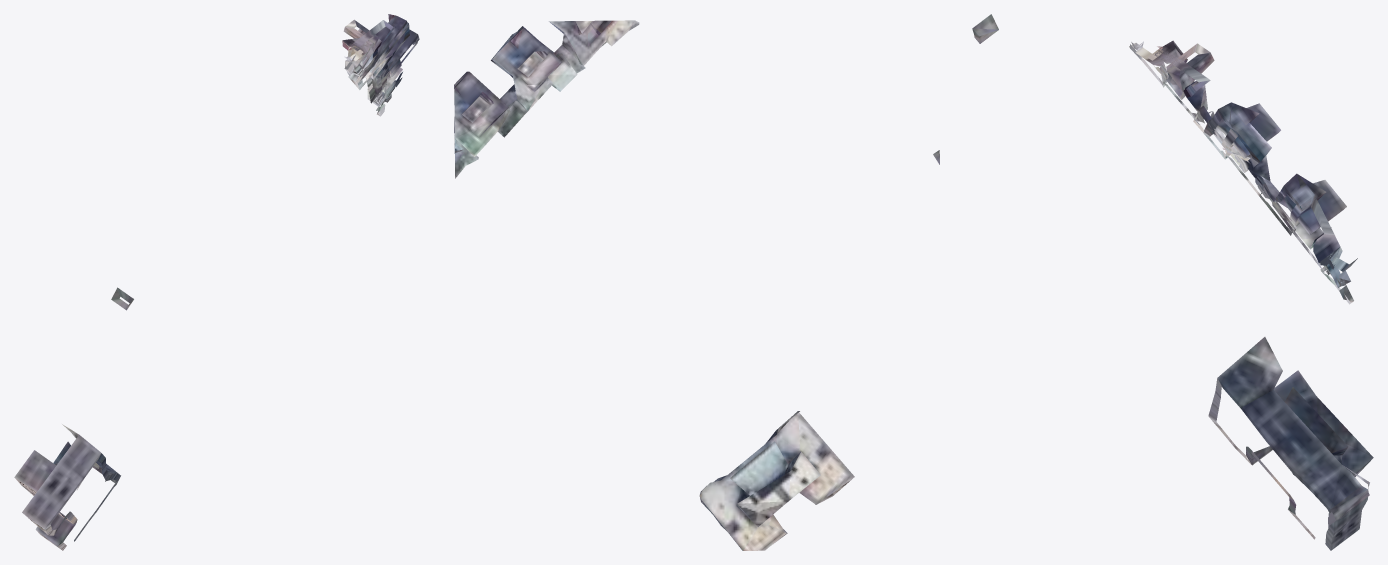
3 views of the same model, side by side, from view 1: azimuth 30°, elevation 25°; view 2: azimuth 150°, elevation 25°; view 3: azimuth 270°, elevation 25° (orthographic). The views are drawn at different scales.
Bounding box in the file's own units: 126 × 142 × 79.79.
Materials: 1 (1 with a texture image).
